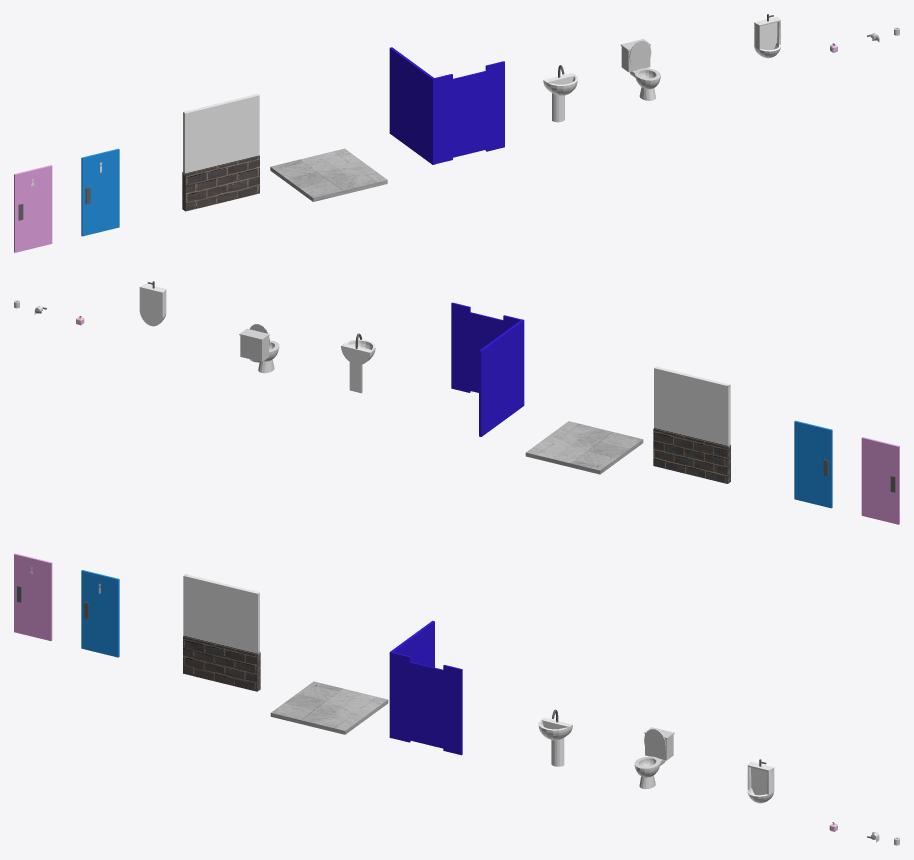
Rendered from Bathroom.glb.
3 renders of one model, top to bottom at view 1: azimuth 30°, elevation 25°; view 2: azimuth 150°, elevation 25°; view 3: azimuth 330°, elevation 25°, orthographic.
Visible parts, largest first — view 1: Bathroom_Wall, Stall_Wall, Bathroom_Floor, Stall_Front, Bathroom_Door, Bathroom_Door.001, Stall_Door, Toilet, Urinal, Sink; view 2: Bathroom_Wall, Stall_Wall, Bathroom_Floor, Bathroom_Door, Bathroom_Door.001, Stall_Front, Stall_Door, Toilet, Sink, Urinal; view 3: Bathroom_Wall, Bathroom_Floor, Stall_Front, Bathroom_Door, Bathroom_Door.001, Stall_Door, Toilet, Stall_Wall, Urinal, Sink.
Part boxes in pixels (bbox=[...]): Bathroom_Wall: bbox=[182, 94, 259, 211]; Stall_Wall: bbox=[389, 47, 434, 164]; Bathroom_Floor: bbox=[270, 148, 387, 201]; Stall_Front: bbox=[434, 61, 504, 164]; Bathroom_Door: bbox=[81, 148, 119, 236]; Bathroom_Door.001: bbox=[14, 165, 52, 252]; Stall_Door: bbox=[453, 71, 486, 157]; Toilet: bbox=[620, 39, 660, 100]; Urinal: bbox=[754, 14, 780, 58]; Sink: bbox=[543, 65, 577, 122]; Bathroom_Wall: bbox=[653, 366, 730, 483]; Stall_Wall: bbox=[479, 319, 524, 436]; Bathroom_Floor: bbox=[525, 421, 643, 474]; Bathroom_Door: bbox=[794, 420, 832, 508]; Bathroom_Door.001: bbox=[861, 437, 899, 524]; Stall_Front: bbox=[451, 302, 521, 392]; Stall_Door: bbox=[469, 312, 503, 392]; Toilet: bbox=[239, 324, 279, 373]; Sink: bbox=[341, 333, 375, 393]; Urinal: bbox=[139, 281, 166, 326]; Bathroom_Wall: bbox=[183, 574, 260, 691]; Bathroom_Floor: bbox=[270, 681, 388, 734]; Stall_Front: bbox=[391, 652, 462, 755]; Bathroom_Door: bbox=[81, 570, 119, 657]; Bathroom_Door.001: bbox=[14, 553, 52, 640]; Stall_Door: bbox=[409, 661, 443, 748]; Toilet: bbox=[634, 727, 674, 789]; Stall_Wall: bbox=[389, 620, 434, 737]; Urinal: bbox=[747, 759, 774, 803]; Sink: bbox=[538, 709, 572, 766].
Bounding box in the file's own units: 23.76 × 2.56 × 2.02.
21 materials, 7 textured.
